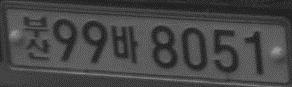0: (180, 25, 209, 72)
1: (241, 29, 270, 75)
5: (213, 28, 239, 74)
8: (150, 23, 178, 69)
9: (81, 19, 107, 64), (51, 18, 78, 61)
바: (110, 24, 139, 64)
부산_V: (22, 16, 50, 61)
